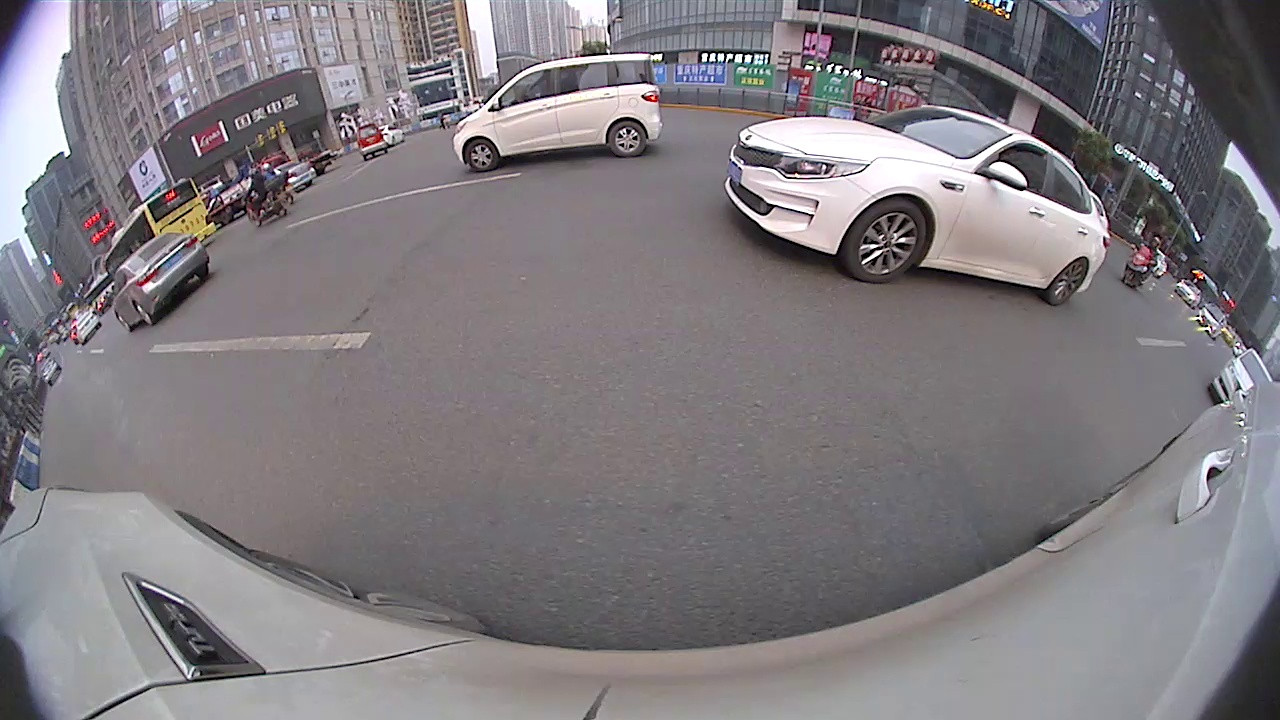bus: (102, 178, 214, 273)
car: (721, 101, 1110, 307), (448, 50, 664, 178), (112, 229, 211, 333)
front: (833, 201, 929, 286), (462, 135, 500, 173)
rear: (1040, 256, 1090, 307), (606, 119, 649, 158), (132, 302, 156, 329)
rider: (243, 160, 293, 229), (1121, 231, 1161, 297)
